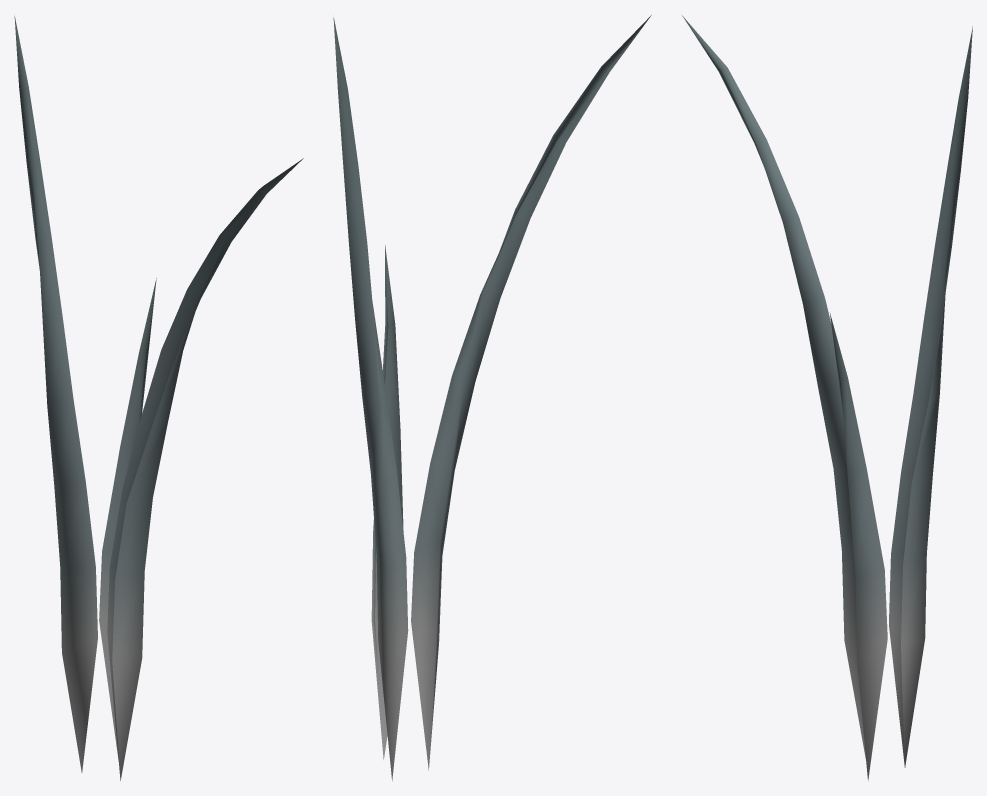
Rendered from plants-grasses-reeds-grass-blades_v9.glb.
The picture shows the model from 3 angles, left to right: view 1: azimuth 90°, elevation 25°; view 2: azimuth 150°, elevation 25°; view 3: azimuth 270°, elevation 25°; orthographic projection. The views are drawn at different scales.
Visible parts, largest first — view 1: Grass Blades_v9; view 2: Grass Blades_v9; view 3: Grass Blades_v9.
Boxes of the visible parts, x1=… form: Grass Blades_v9: x1=14, y1=16, x2=303, y2=780; Grass Blades_v9: x1=333, y1=15, x2=651, y2=781; Grass Blades_v9: x1=682, y1=15, x2=972, y2=780.
Bounding box in the file's own units: 0.1011 × 0.4 × 0.1403.
